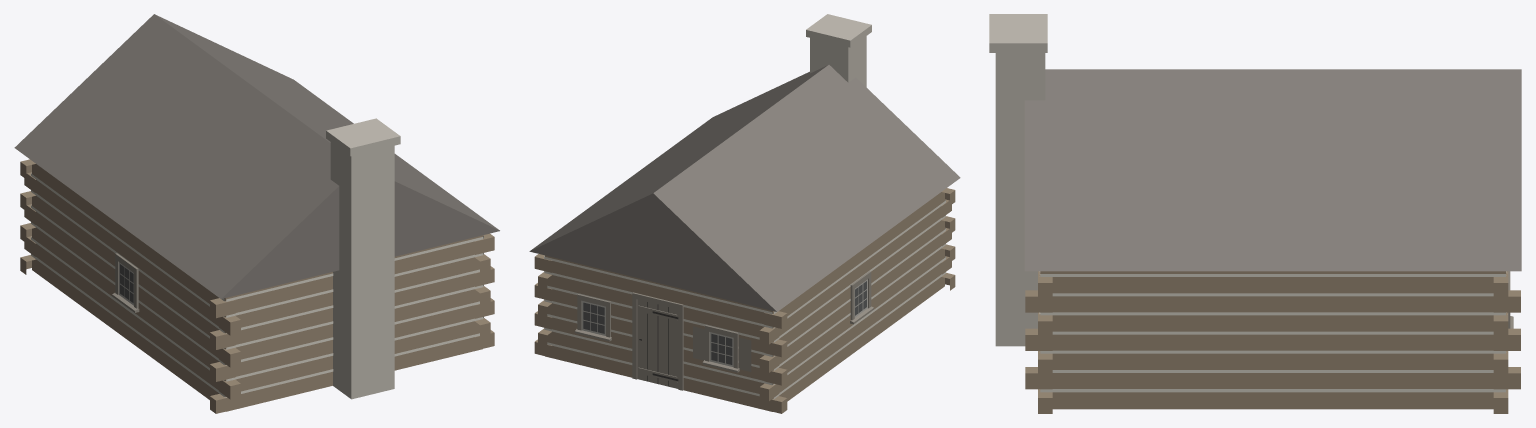
Rendered from recon_1835_blk_randolph_dearborn_d1_16__inferred_1835.glb.
The picture shows the model from 3 angles, left to right: view 1: azimuth 30°, elevation 25°; view 2: azimuth 150°, elevation 25°; view 3: azimuth 270°, elevation 25°; orthographic projection. The views are drawn at different scales.
Visible parts, largest first — view 1: recon_1835_blk_randolph_dearborn_d1_16__inferred_1835; view 2: recon_1835_blk_randolph_dearborn_d1_16__inferred_1835; view 3: recon_1835_blk_randolph_dearborn_d1_16__inferred_1835.
Part boxes in pixels (<box>): recon_1835_blk_randolph_dearborn_d1_16__inferred_1835: <box>14,14,499,413</box>; recon_1835_blk_randolph_dearborn_d1_16__inferred_1835: <box>529,14,960,413</box>; recon_1835_blk_randolph_dearborn_d1_16__inferred_1835: <box>989,14,1521,413</box>.
Size of the model in its own units: 6.24 by 5.41 by 8.56.
